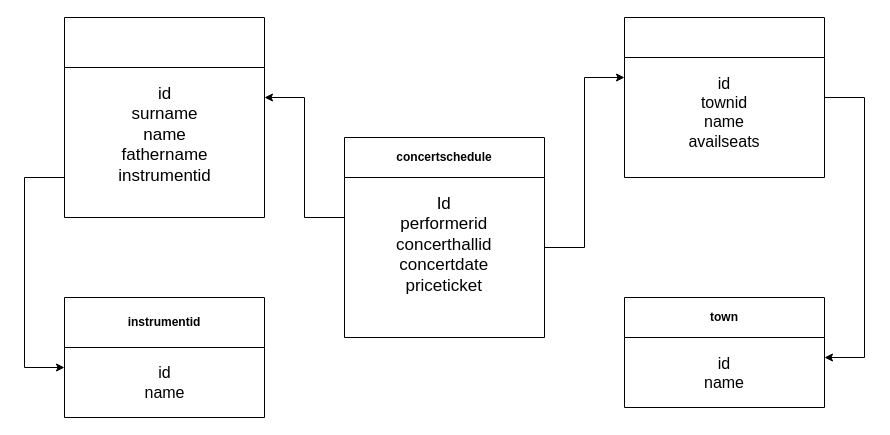
This 890x435 diagram has some shape labels left out. The shapes that lost their labels are listed below. From the top down, each one's box as (x1, y1, x2, y2) in pixels, then its label:
(64, 16, 264, 218): performer
(624, 16, 824, 178): concerthall
